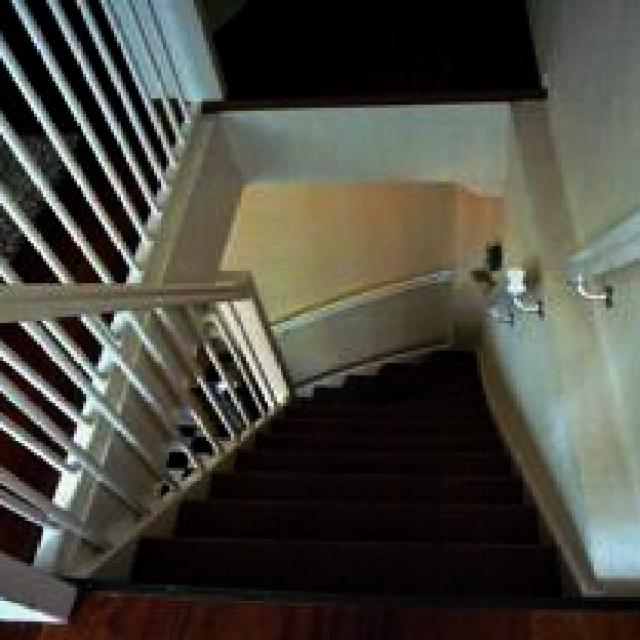downstair: (93, 416, 567, 640)
